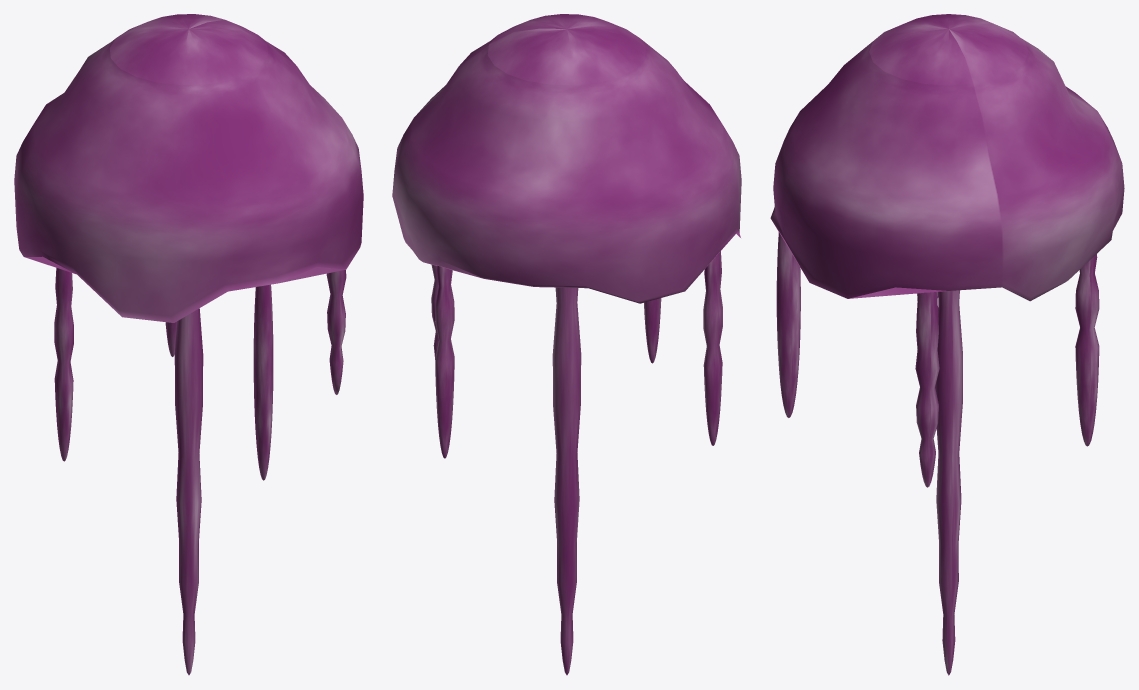
The model's file is jellyfishAnim.fbx.
The picture shows the model from 3 angles, left to right: view 1: azimuth 30°, elevation 25°; view 2: azimuth 150°, elevation 25°; view 3: azimuth 270°, elevation 25°; orthographic projection.
Visible parts, largest first — view 1: pSphere4, pSphere5, pSphere8, pSphere6, pSphere7; view 2: pSphere4, pSphere5, pSphere9, pSphere6, pSphere8; view 3: pSphere4, pSphere5, pSphere7, pSphere9, pSphere8.
Boxes of the visible parts, x1,y1,x2,y2 form: pSphere4: (14,14,363,322); pSphere5: (174,308,203,675); pSphere8: (253,284,273,480); pSphere6: (54,268,73,461); pSphere7: (326,270,346,394); pSphere4: (392,14,741,303); pSphere5: (552,287,581,675); pSphere9: (435,266,454,458); pSphere6: (703,251,722,445); pSphere8: (644,298,661,363); pSphere4: (770,14,1124,301); pSphere5: (935,290,962,675); pSphere7: (915,292,939,487); pSphere9: (1075,254,1099,446); pSphere8: (776,232,800,417).
Size of the model in its own units: 12.1 by 24.58 by 12.19.
